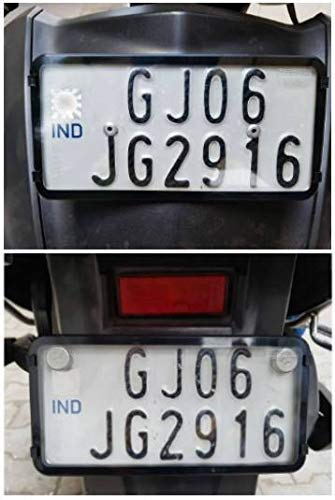doublelinenumberplate: (29, 51, 326, 198), (30, 334, 310, 472)
